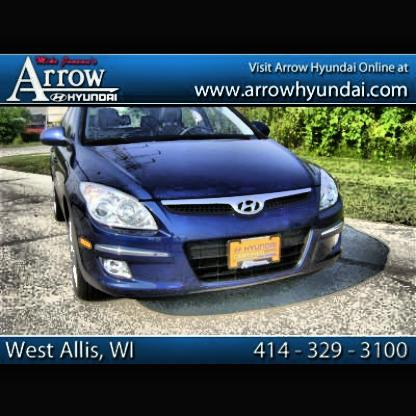Hyundai Elantra Touring Hatchback 2012: (43, 108, 346, 305)
